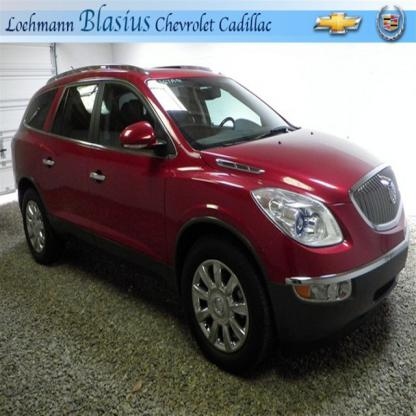Vehicle: (11, 63, 410, 374)
